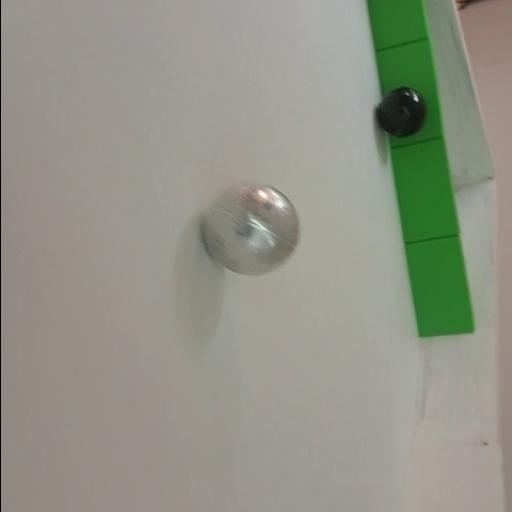alive: (200, 182, 299, 276)
dead: (374, 86, 426, 138)
